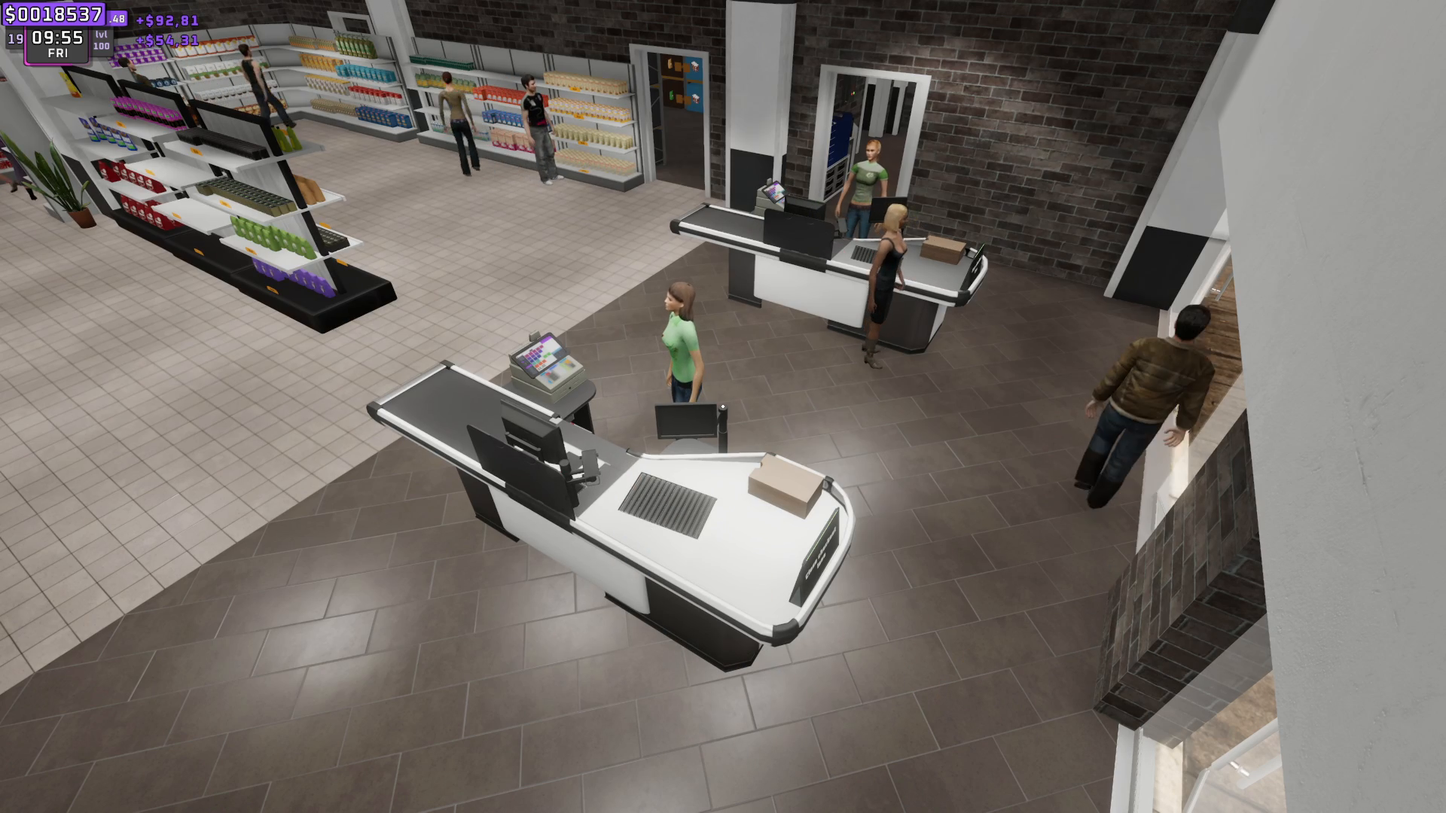Client: (867, 197, 904, 373)
Employee: (661, 291, 707, 393), (852, 137, 878, 231)
